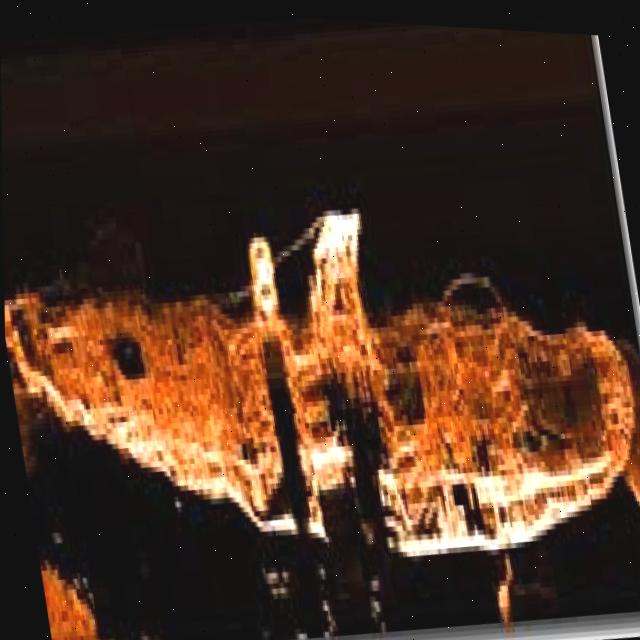shipwreck: (2, 153, 640, 613)
